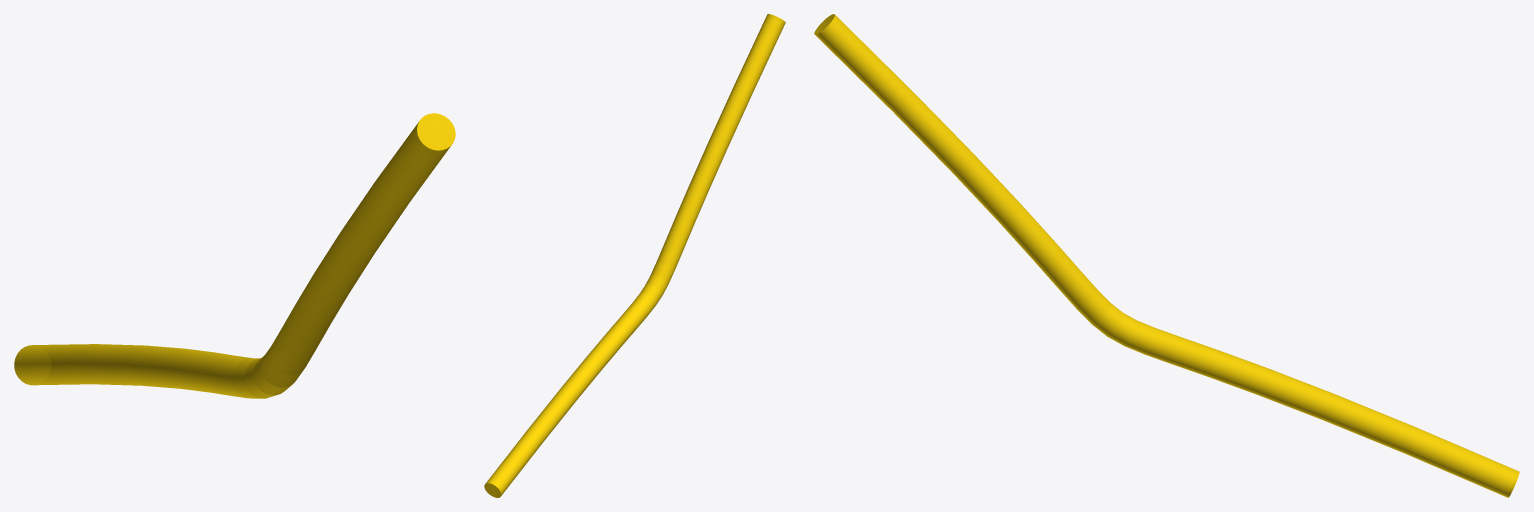
File: Event_421115418_track_202.fbx
The picture shows the model from 3 angles, left to right: view 1: azimuth 30°, elevation 25°; view 2: azimuth 150°, elevation 25°; view 3: azimuth 270°, elevation 25°; orthographic projection. The views are drawn at different scales.
Visible parts, largest first — view 1: Model; view 2: Model; view 3: Model.
Part boxes in pixels (<box>): Model: <box>14,113,455,398</box>; Model: <box>484,14,785,497</box>; Model: <box>814,14,1519,497</box>.
Size of the model in its own units: 0.1332 by 0.6964 by 0.9827.
